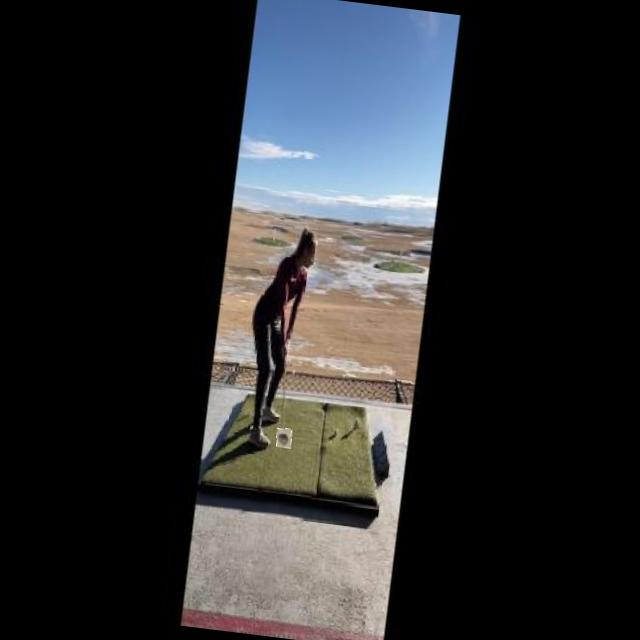club head: (276, 428, 292, 448)
